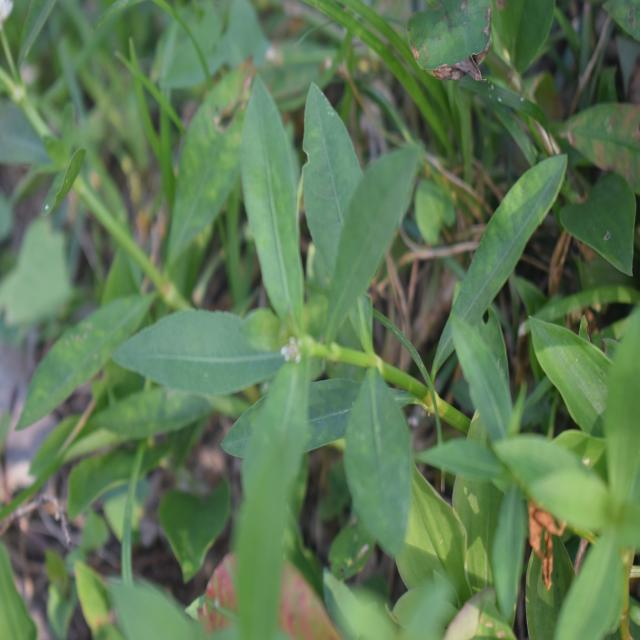Alligatorweed: (131, 78, 471, 560)
